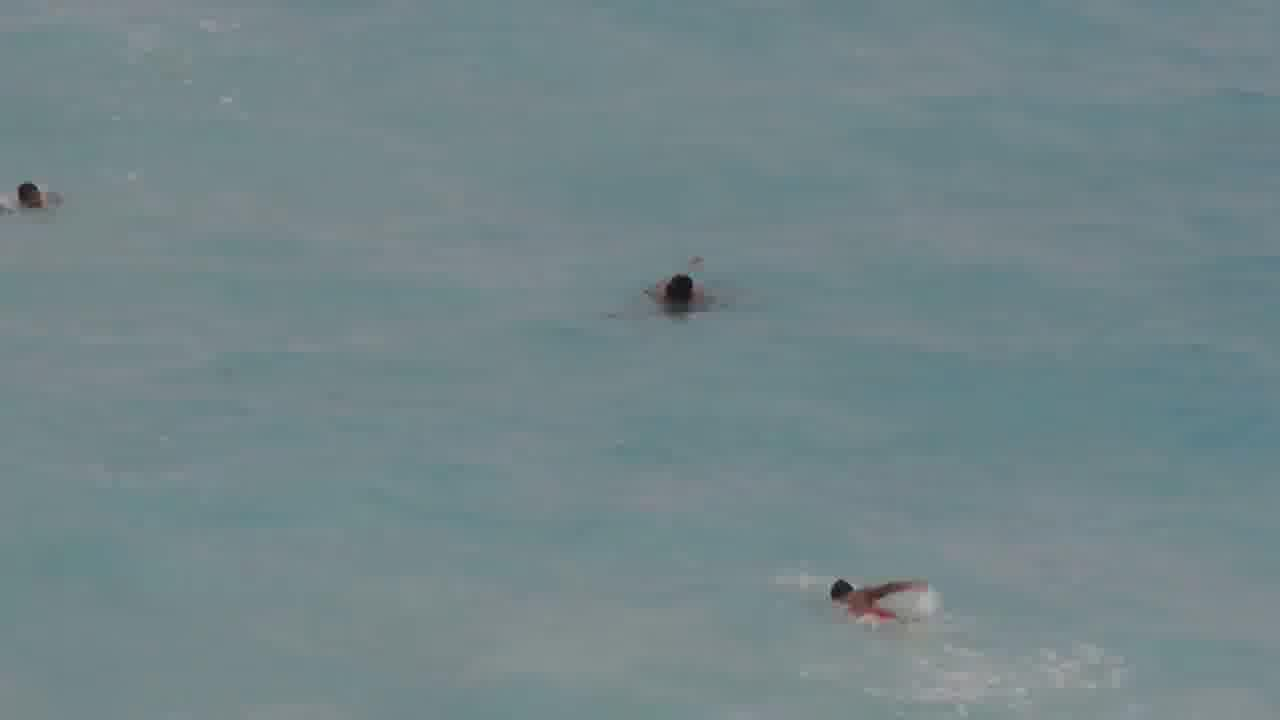swimmer: (818, 574, 926, 632), (645, 253, 720, 325), (10, 164, 60, 243)
